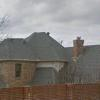Chimney: (69, 32, 85, 58)
